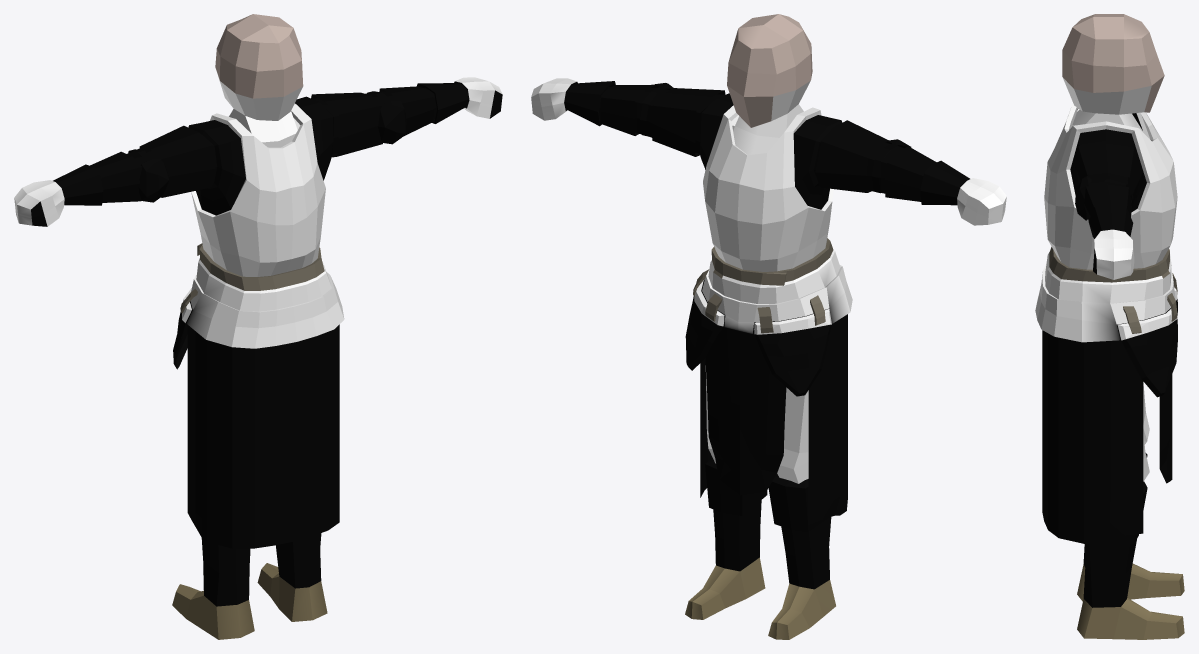
File: soldiercombined.fbx
3 renders of one model, left to right at view 1: azimuth 30°, elevation 25°; view 2: azimuth 150°, elevation 25°; view 3: azimuth 270°, elevation 25°, orthographic. The views are drawn at different scales.
Visible parts, largest first — view 1: SoldierRed; view 2: SoldierRed; view 3: SoldierRed.
Boxes of the visible parts, bbox=[...] form: SoldierRed: bbox=[14, 14, 502, 639]; SoldierRed: bbox=[531, 14, 1006, 639]; SoldierRed: bbox=[1035, 14, 1184, 639].
Size of the model in its own units: 1.46 by 1.73 by 0.3943.
